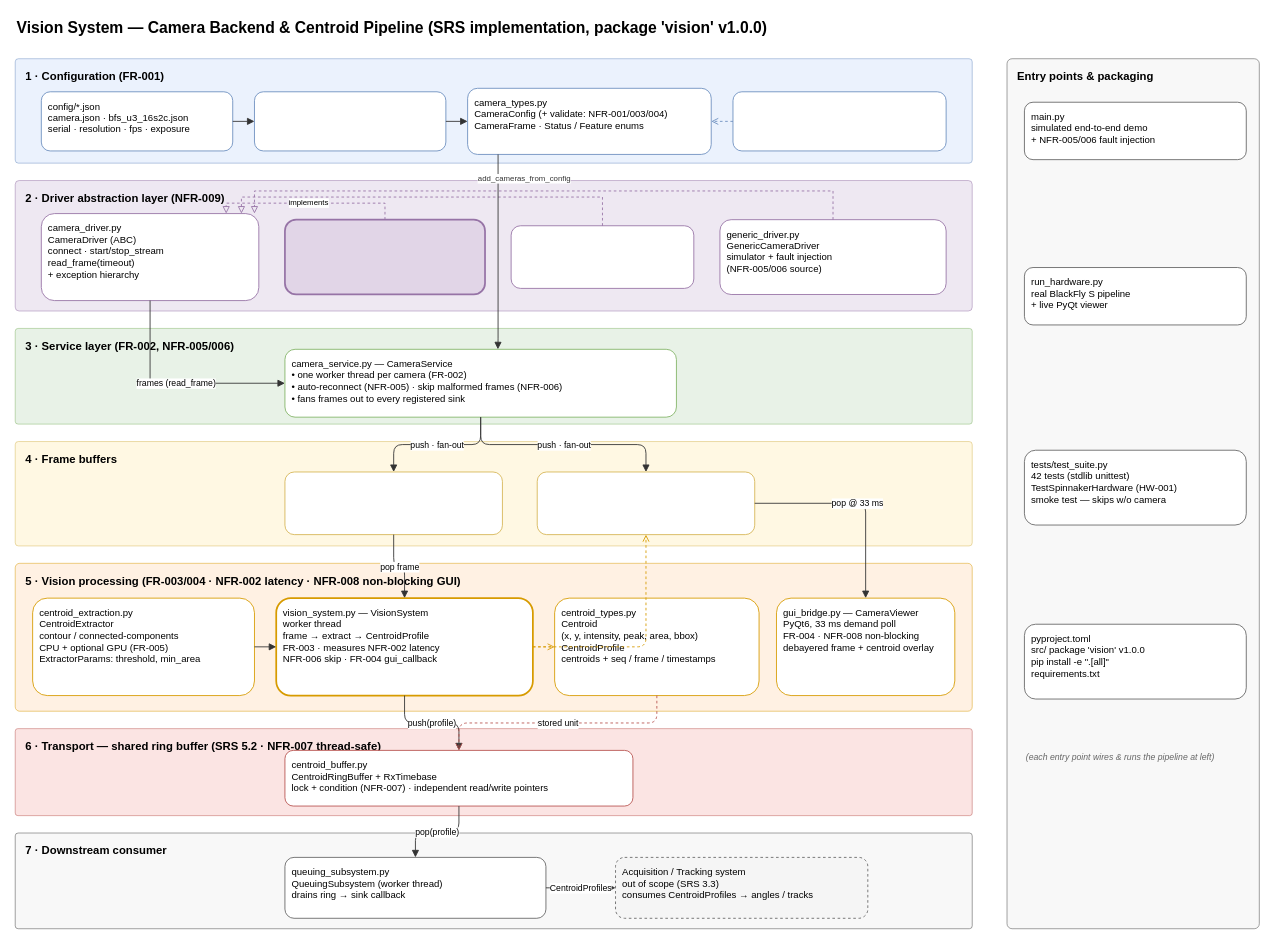
This 1275x944 diagram has some shape labels left out. Here are the shapes that lost their labels. From the top down, the centre of each, then its label:
At (x=350, y=121): "config_loader.py load_camera_configs() JSON / YAML → CameraConfig".
At (x=839, y=121): "lens.py FOV calculators (FLIR formulas) sizes lens_fov_deg · NFR-004".
At (x=384, y=256): "spinnaker_driver.py SpinnakerCameraDriver BlackFly S · PySpin BayerRG8 → BGR8".
At (x=602, y=256): "opencv_driver.py OpenCVCameraDriver UVC · RTSP · V4L2".
At (x=393, y=503): "frame_buffers.py CircularFrameBuffer fresh-wins, drops stale → vision".
At (x=645, y=503): "frame_buffers.py FIFOFrameBuffer drop-newest, bounded → GUI".
